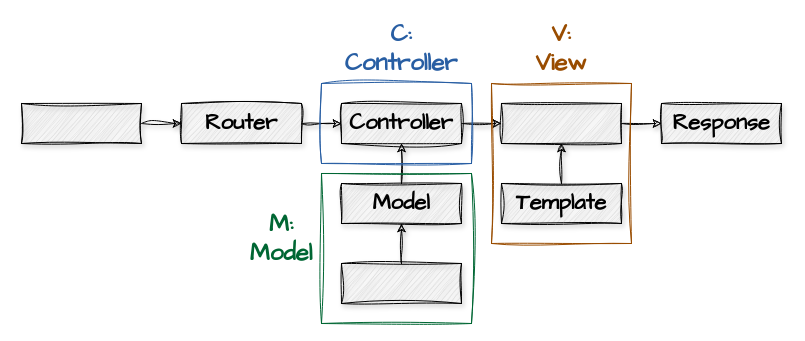
The diagram is 805 pixels wide and 341 high, and some of its shapes have lost their labels. Here are the shapes that lost their labels. From the top down, the centre of each, then its label:
(x=82, y=124): Request
(x=562, y=124): View
(x=402, y=284): Database
